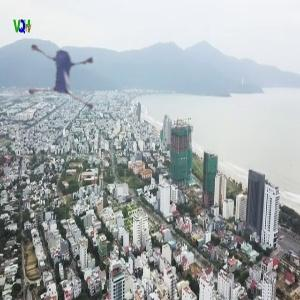drone: (10, 15, 135, 140)
